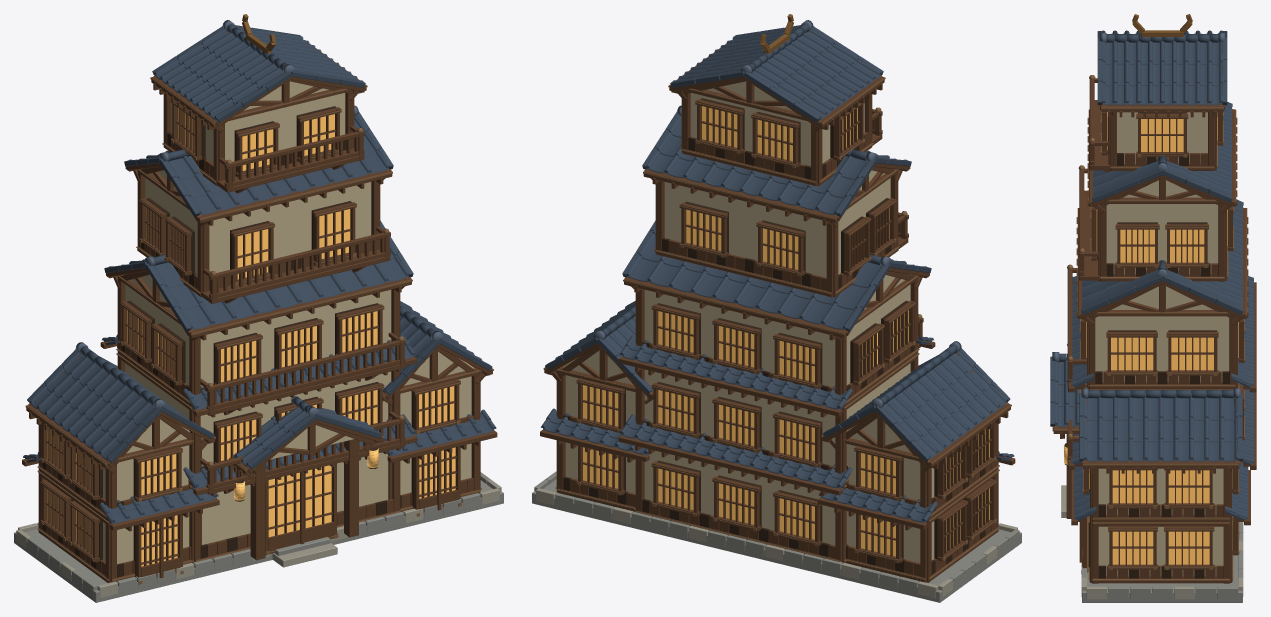
3 renders of one model, left to right at view 1: azimuth 30°, elevation 25°; view 2: azimuth 150°, elevation 25°; view 3: azimuth 270°, elevation 25°, orthographic.
Visible parts, largest first — view 1: compact_skyscraper_3_geometry, compact_skyscraper_3_geometry ceramic; view 2: compact_skyscraper_3_geometry, compact_skyscraper_3_geometry ceramic; view 3: compact_skyscraper_3_geometry, compact_skyscraper_3_geometry ceramic.
Boxes of the visible parts, x1,y1,x2,y2 form: compact_skyscraper_3_geometry: (14,14,503,602); compact_skyscraper_3_geometry ceramic: (23,20,496,524); compact_skyscraper_3_geometry: (532,14,1021,602); compact_skyscraper_3_geometry ceramic: (541,20,1014,523); compact_skyscraper_3_geometry: (1052,14,1256,602); compact_skyscraper_3_geometry ceramic: (1050,30,1253,520).
Size of the model in its own units: 2.23 by 2.6 by 0.9925.
